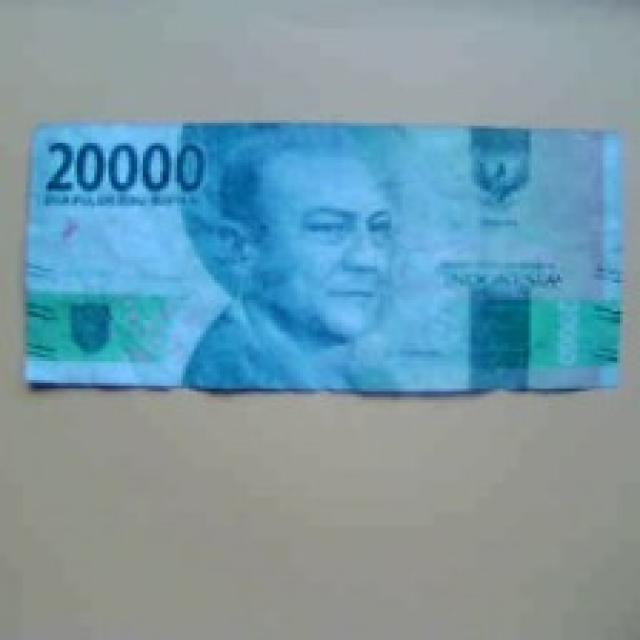dua puluh ribu rupiah: (21, 62, 640, 487)
